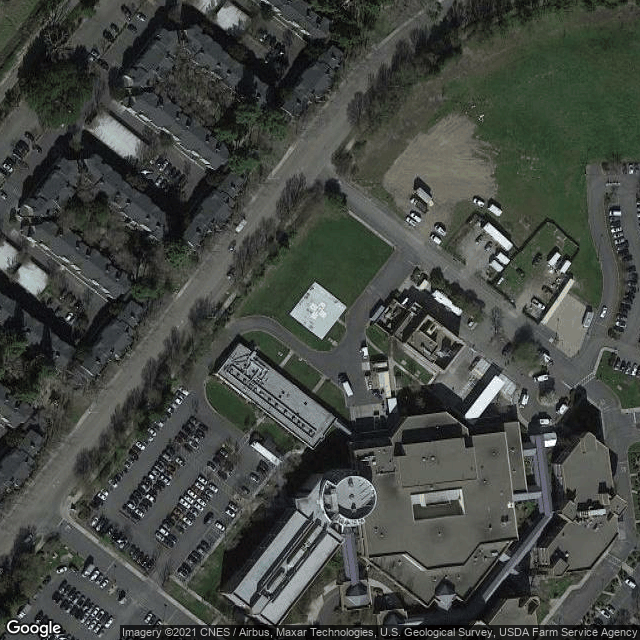Helipad: (301, 293, 339, 327)
